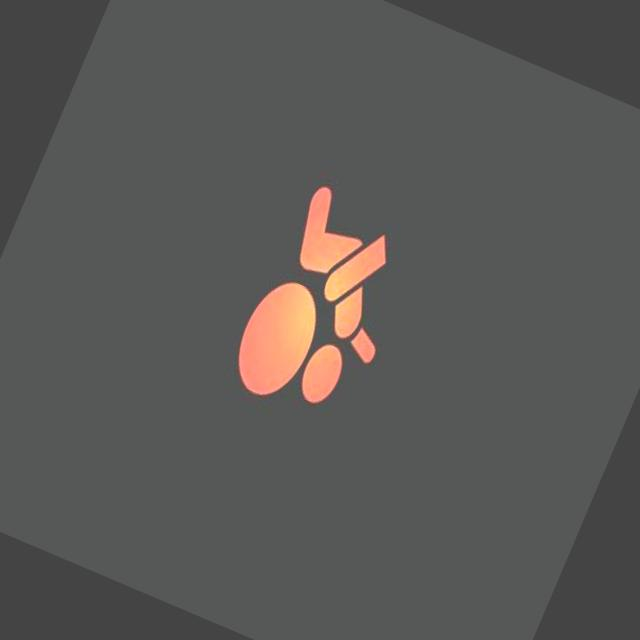kontrolka: (194, 153, 446, 464)
